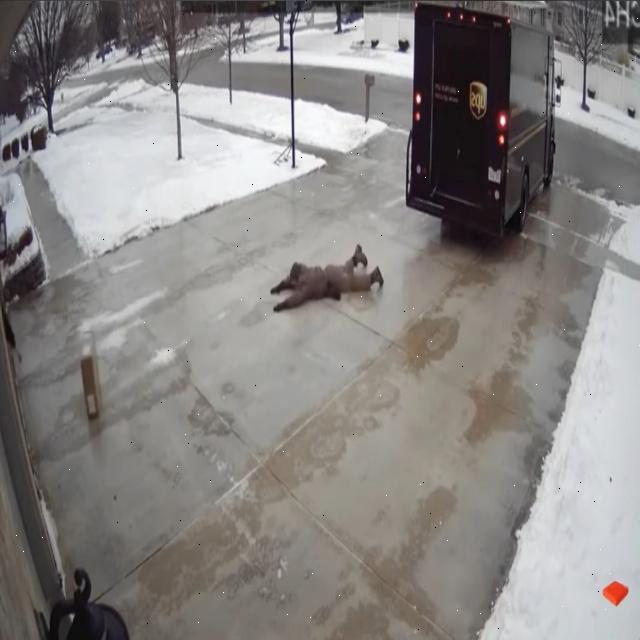fallen: (271, 251, 381, 311)
